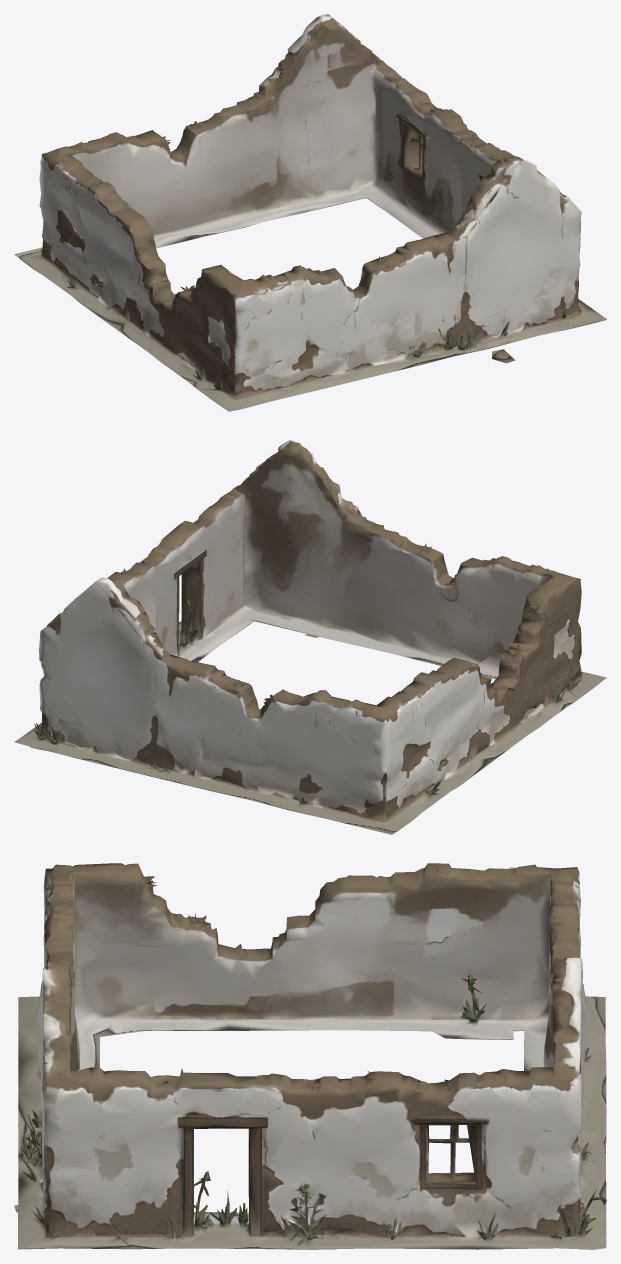
File: 77d3d0ab-bac3-46e5-8b84-3699589dca04_model_url.glb
The picture shows the model from 3 angles, top to bottom: view 1: azimuth 30°, elevation 25°; view 2: azimuth 150°, elevation 25°; view 3: azimuth 270°, elevation 25°; orthographic projection. The views are drawn at different scales.
Visible parts, largest first — view 1: tripo_node_77d3d0ab-bac3-46e5-8b84-3699589dca04; view 2: tripo_node_77d3d0ab-bac3-46e5-8b84-3699589dca04; view 3: tripo_node_77d3d0ab-bac3-46e5-8b84-3699589dca04.
Part boxes in pixels (x1=…): tripo_node_77d3d0ab-bac3-46e5-8b84-3699589dca04: x1=14, y1=14, x2=606, y2=411; tripo_node_77d3d0ab-bac3-46e5-8b84-3699589dca04: x1=14, y1=440, x2=606, y2=834; tripo_node_77d3d0ab-bac3-46e5-8b84-3699589dca04: x1=14, y1=863, x2=606, y2=1249.
Bounding box in the file's own units: 1 × 0.4858 × 0.994.
1 material, 1 textured.
